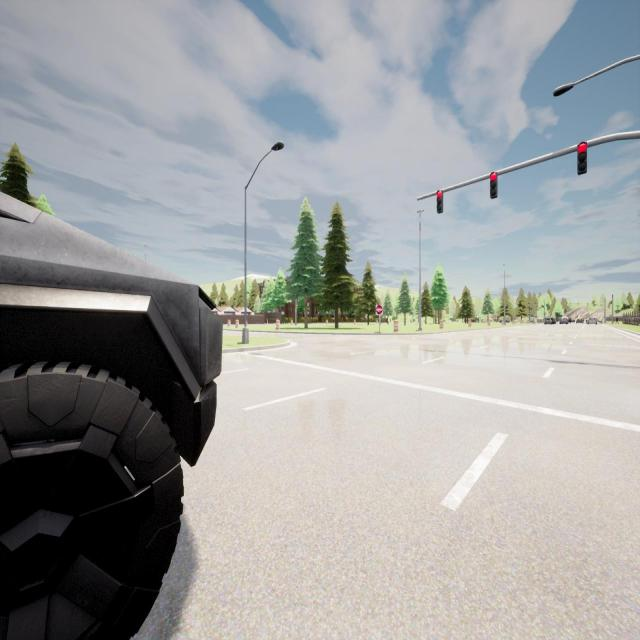Pedestrian: (616, 316, 619, 326)
Traffic_Signs: (376, 304, 384, 316)
Vehicle: (0, 193, 221, 638), (587, 318, 598, 324), (559, 317, 568, 324), (544, 318, 552, 324), (576, 318, 584, 324), (551, 317, 556, 324), (569, 318, 575, 323)
traffic_light: (577, 142, 587, 175), (490, 172, 497, 198), (437, 190, 443, 213), (610, 300, 612, 304)
